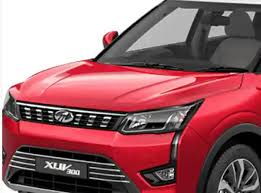XUV 400: (1, 1, 260, 192)
